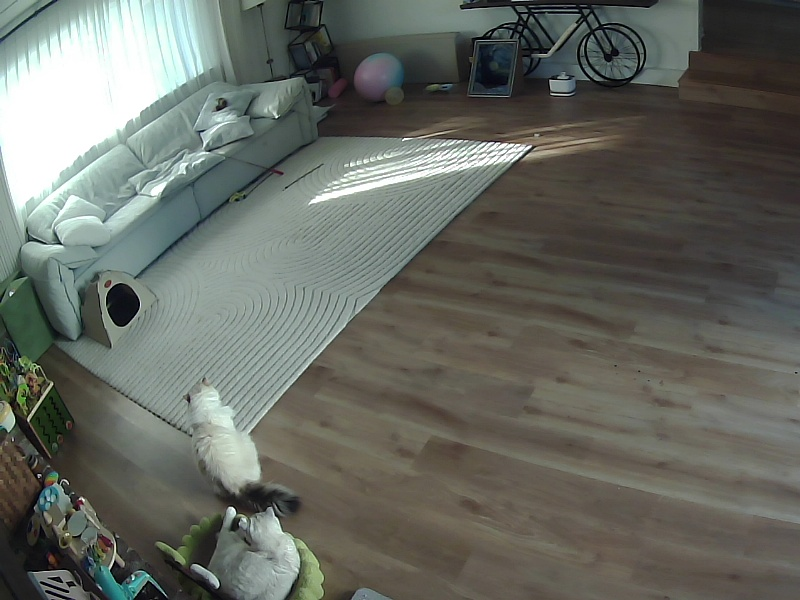Qb-2: (191, 506, 300, 599)
Qbo-2: (184, 377, 299, 515)
